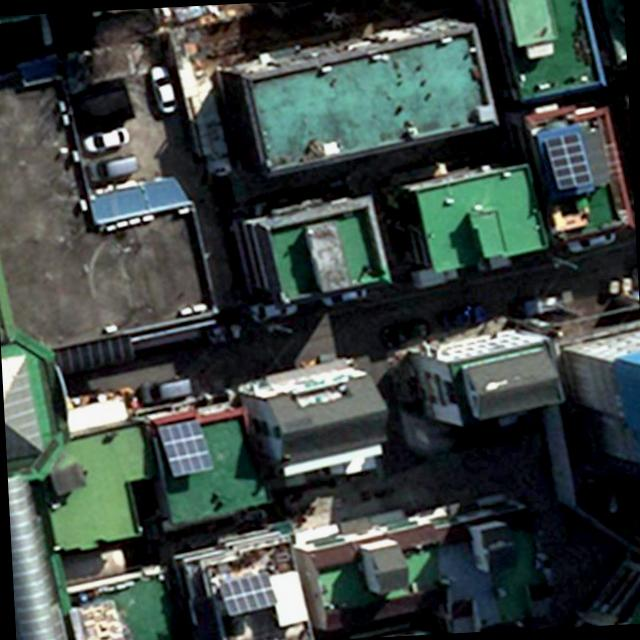solar: (157, 416, 217, 478), (542, 130, 592, 194), (216, 570, 282, 618)
